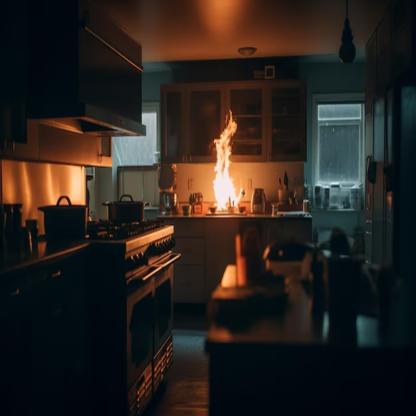fire: (206, 110, 245, 204)
